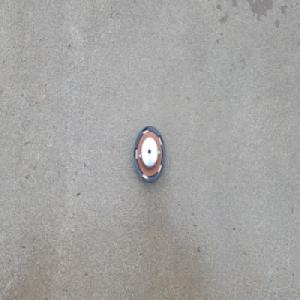FuelCap: (132, 123, 166, 185)
